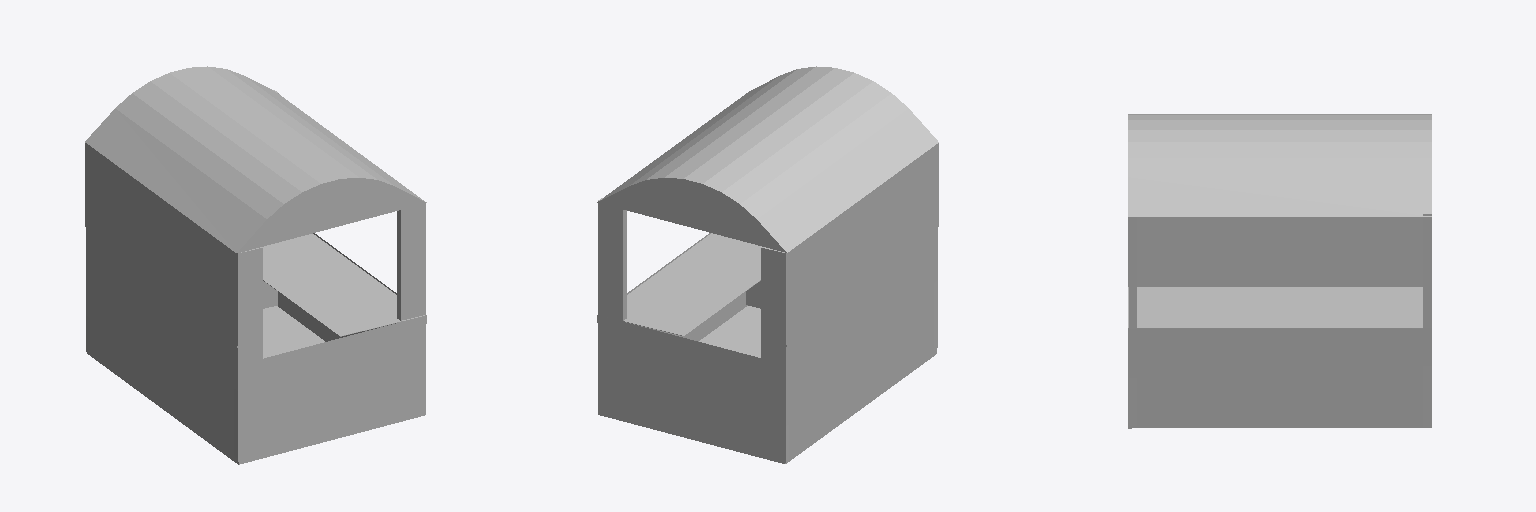
The model's file is modelo puesto de tortas.obj.
3 views of the same model, side by side, from view 1: azimuth 30°, elevation 25°; view 2: azimuth 150°, elevation 25°; view 3: azimuth 270°, elevation 25° (orthographic).
Visible parts, largest first — view 1: Line001, Box005, Box002, Box003; view 2: Line001, Box005, Box004, Box001; view 3: Line001, Box005, Box001, Box002.
Part boxes in pixels (bbox=[...]): Line001: bbox=[85, 66, 426, 464]; Box005: bbox=[263, 234, 424, 336]; Box002: bbox=[397, 204, 425, 320]; Box003: bbox=[234, 247, 262, 457]; Line001: bbox=[597, 66, 938, 463]; Box005: bbox=[623, 233, 761, 335]; Box004: bbox=[761, 247, 788, 462]; Box001: bbox=[598, 198, 626, 322]; Line001: bbox=[1128, 114, 1431, 428]; Box005: bbox=[1128, 287, 1422, 328]; Box001: bbox=[1423, 214, 1431, 426]; Box002: bbox=[1129, 217, 1136, 425].
Bounding box in the file's own units: 122 × 160 × 169.